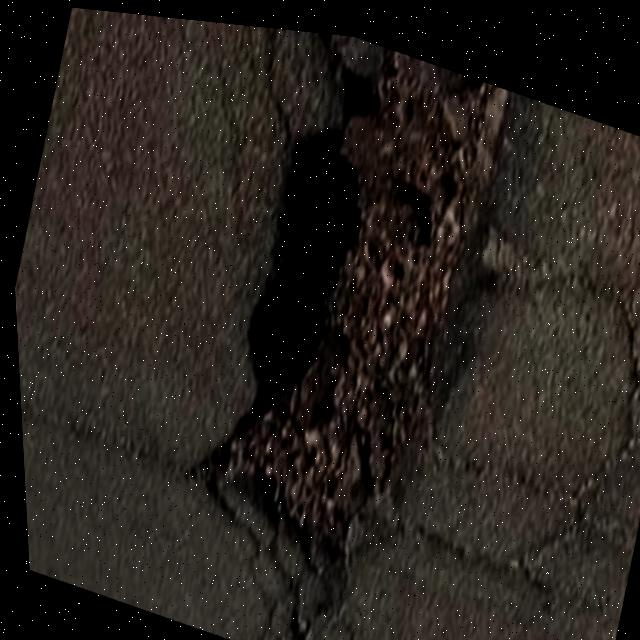Pothole: (141, 12, 539, 623)
